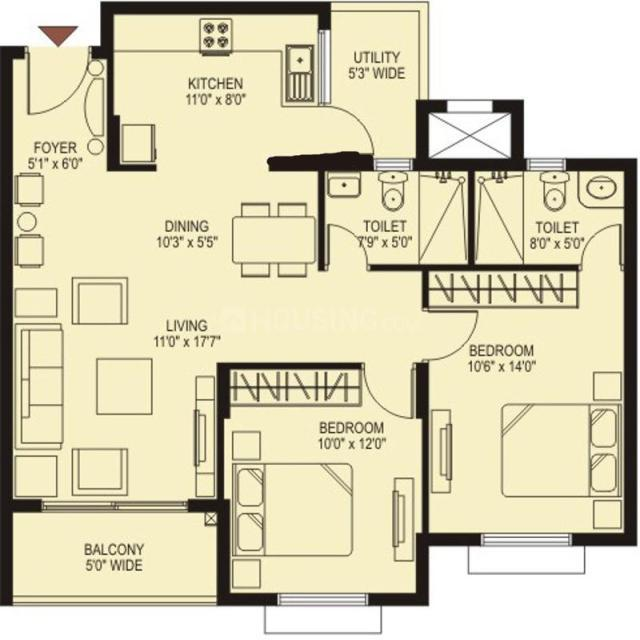Balcony-Sitout: (0, 507, 220, 607)
Bedroom: (220, 365, 425, 611)
Bedroom with Toilet: (422, 166, 633, 541)
Dining: (229, 200, 322, 282)
Enterance-Foyer: (18, 9, 97, 131)
Kitchen: (99, 0, 322, 171)
Living: (2, 278, 220, 510)
Toilet: (470, 166, 628, 273), (318, 171, 474, 269)
Utility: (328, 0, 425, 166)
